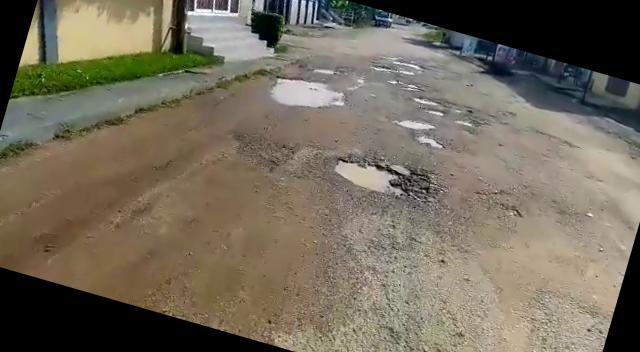pothole: (328, 146, 444, 212), (268, 71, 351, 119), (389, 112, 437, 136), (412, 130, 456, 155), (389, 76, 429, 95), (314, 66, 336, 78)
